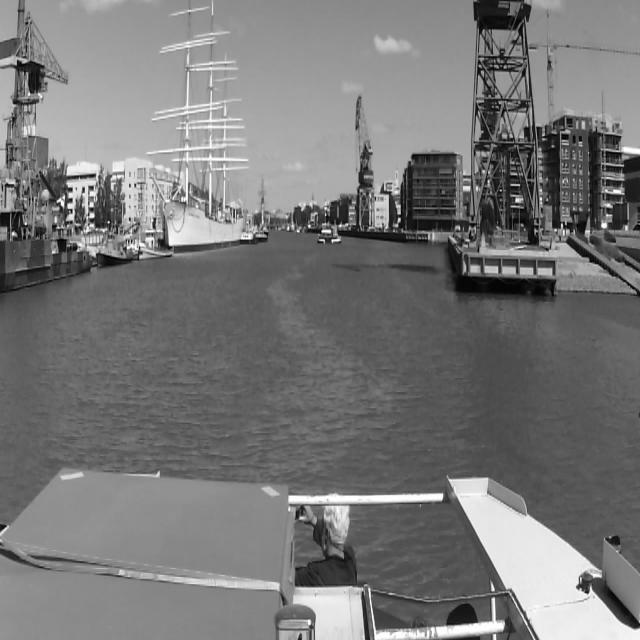ship: (153, 8, 245, 253), (1, 154, 89, 298), (99, 225, 129, 268), (139, 234, 171, 263), (318, 226, 342, 244), (242, 230, 254, 244), (256, 229, 268, 242), (332, 218, 338, 240)
